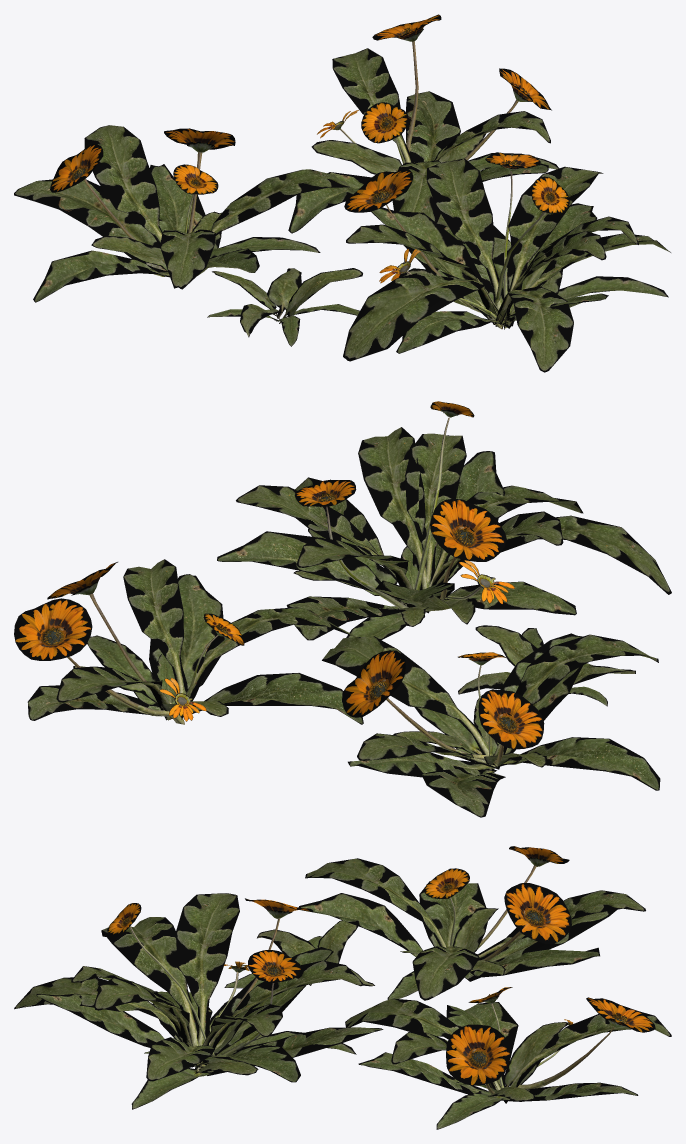
Rendered from gazania.glb.
3 renders of one model, top to bottom at view 1: azimuth 30°, elevation 25°; view 2: azimuth 150°, elevation 25°; view 3: azimuth 270°, elevation 25°, orthographic. The views are drawn at different scales.
Parts seen in each view (by area): view 1: flower_gazania_h_LOD0, flower_gazania_f_LOD0, flower_gazania_g_LOD0, flower_gazania_a_LOD0; view 2: flower_gazania_h_LOD0, flower_gazania_f_LOD0, flower_gazania_g_LOD0, flower_gazania_a_LOD0; view 3: flower_gazania_h_LOD0, flower_gazania_f_LOD0, flower_gazania_g_LOD0, flower_gazania_a_LOD0.
Part boxes in pixels (x1,y1,x2,y2): flower_gazania_h_LOD0: (343, 152, 670, 372); flower_gazania_f_LOD0: (14, 125, 354, 302); flower_gazania_g_LOD0: (288, 14, 559, 233); flower_gazania_a_LOD0: (207, 268, 362, 346); flower_gazania_h_LOD0: (217, 401, 671, 640); flower_gazania_f_LOD0: (322, 633, 660, 817); flower_gazania_g_LOD0: (14, 559, 363, 724); flower_gazania_a_LOD0: (458, 625, 635, 706); flower_gazania_h_LOD0: (14, 893, 383, 1109); flower_gazania_f_LOD0: (299, 846, 645, 1000); flower_gazania_g_LOD0: (345, 987, 671, 1129); flower_gazania_a_LOD0: (224, 920, 374, 988).
Bounding box in the file's own units: 3.73 × 1.16 × 4.08.
1 material, 1 textured.
